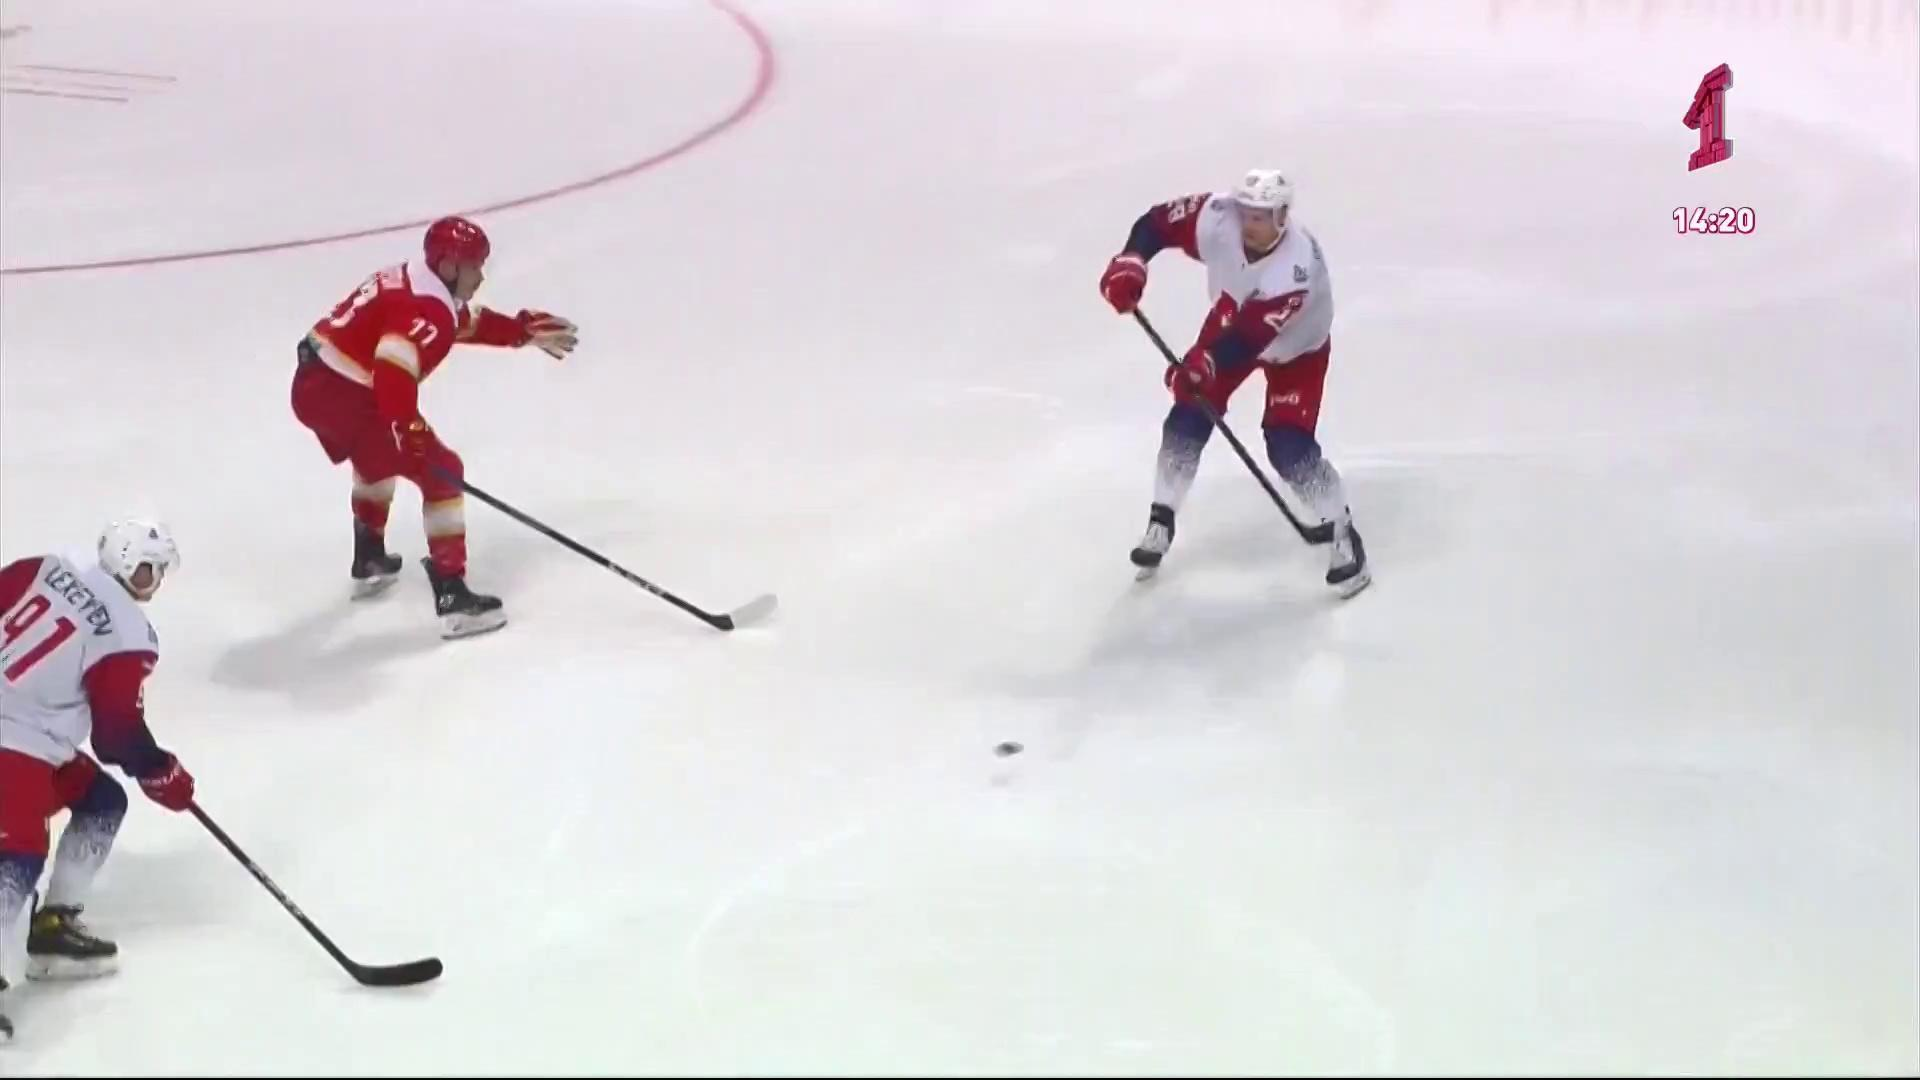ball: (994, 741, 1025, 756)
